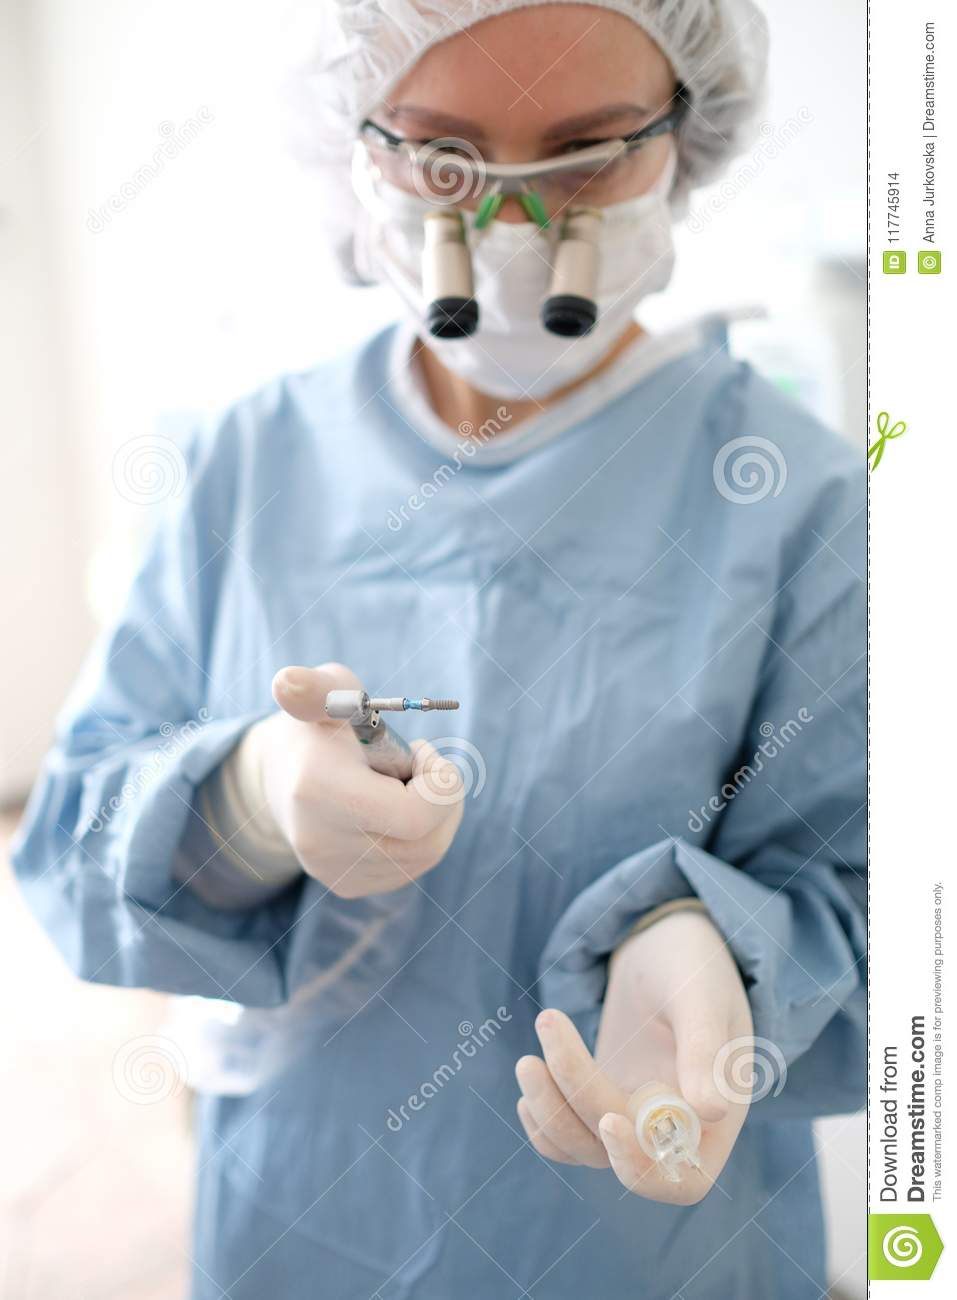mask: (358, 183, 690, 413)
